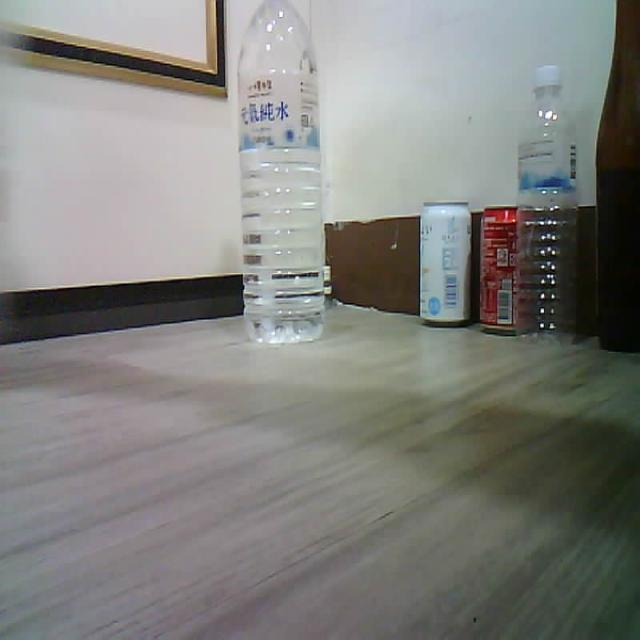bottle: (238, 0, 324, 342), (510, 65, 576, 337)
can: (420, 202, 471, 325), (480, 208, 518, 334)
